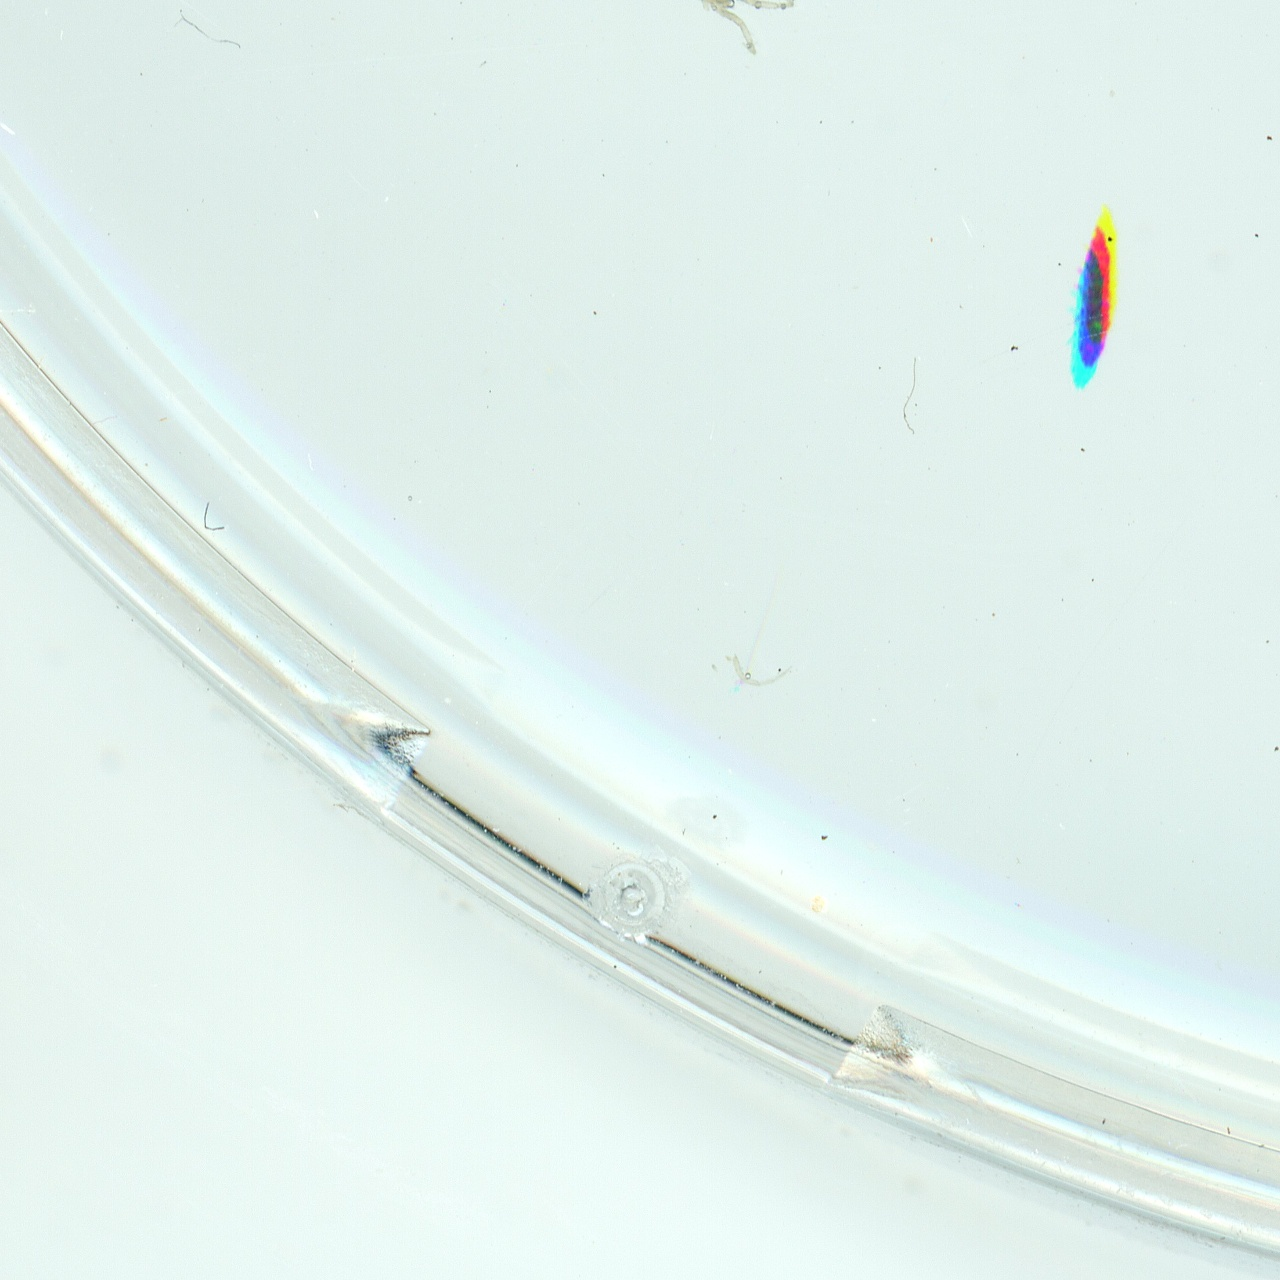arthropod: (641, 0, 808, 64), (1073, 199, 1123, 397)
